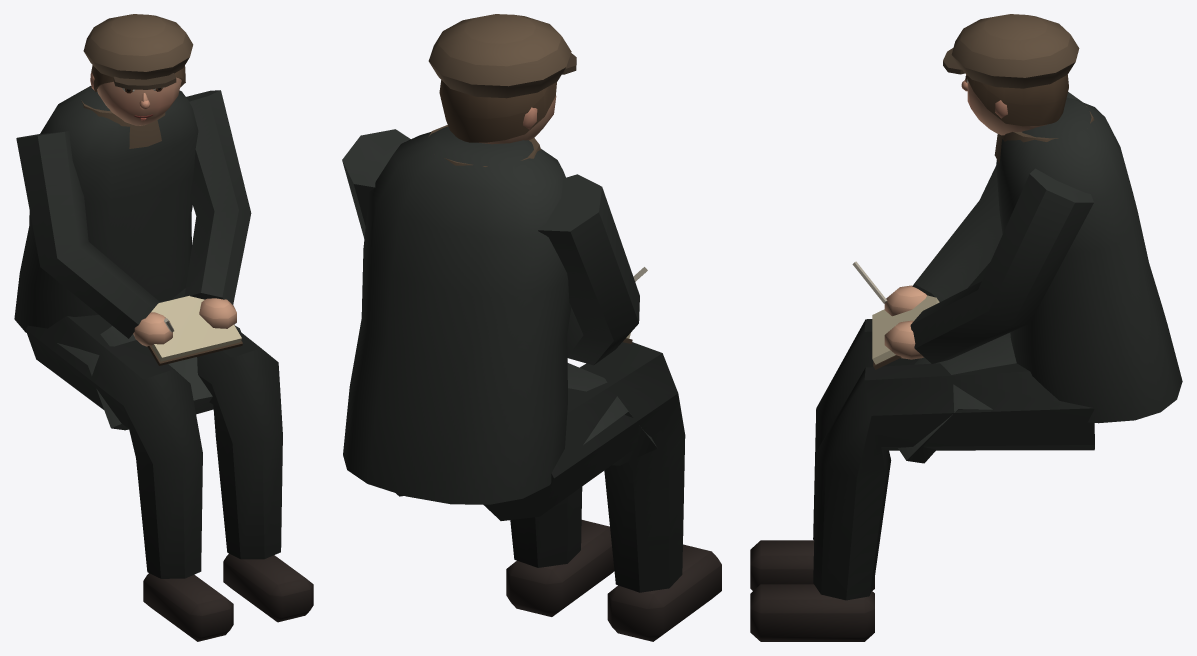
Rendered from ph_chr_student_c.glb.
3 renders of one model, left to right at view 1: azimuth 30°, elevation 25°; view 2: azimuth 150°, elevation 25°; view 3: azimuth 270°, elevation 25°, orthographic. The views are drawn at different scales.
Visible parts, largest first — view 1: ph_chr_student_c; view 2: ph_chr_student_c; view 3: ph_chr_student_c.
Boxes of the visible parts, <box> form: ph_chr_student_c: <box>14,14,313,641</box>; ph_chr_student_c: <box>342,14,721,641</box>; ph_chr_student_c: <box>750,14,1182,641</box>.
Size of the model in its own units: 0.5152 by 1.25 by 0.8315.
